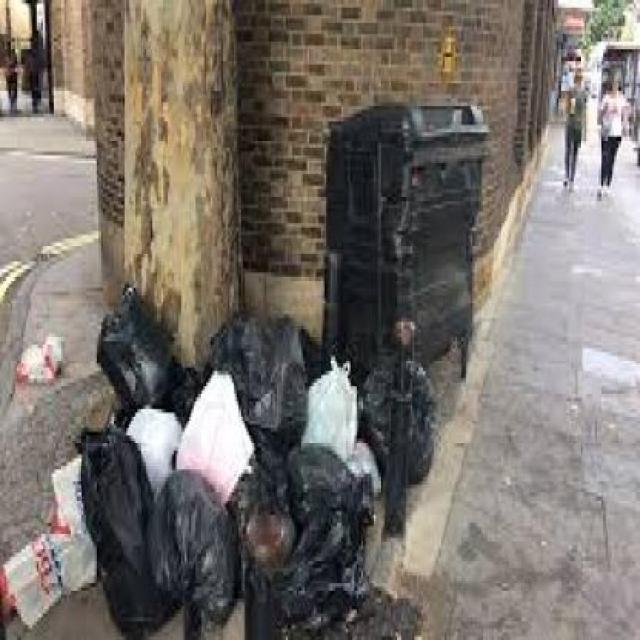garbage: (91, 303, 432, 480), (108, 482, 390, 622), (0, 435, 104, 620), (11, 326, 82, 391)
